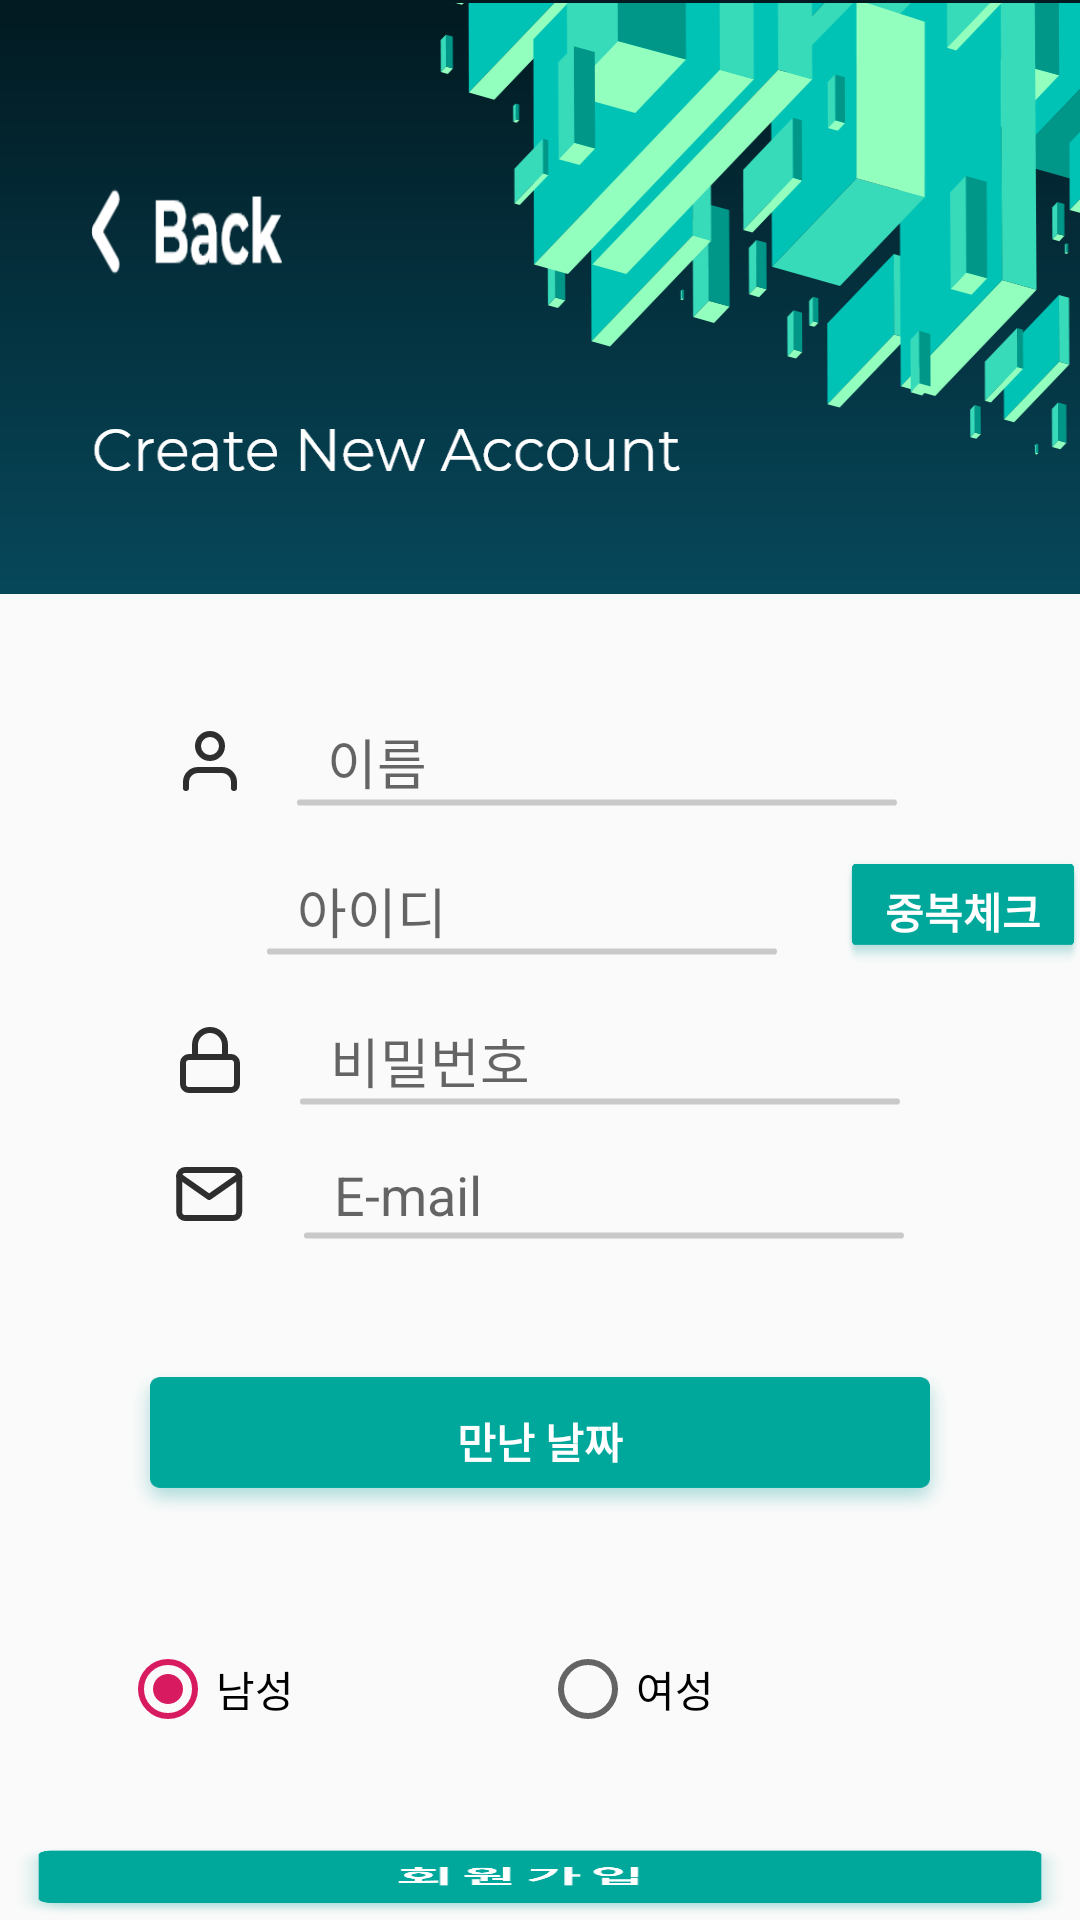

Locate icon controls on the screen. Image size 1080px×1920px, boxes as (x1, y1, x2, y2).
feather lock: (180, 1027, 240, 1093)
feather mail: (176, 1167, 243, 1221)
feather user: (183, 731, 237, 791)
